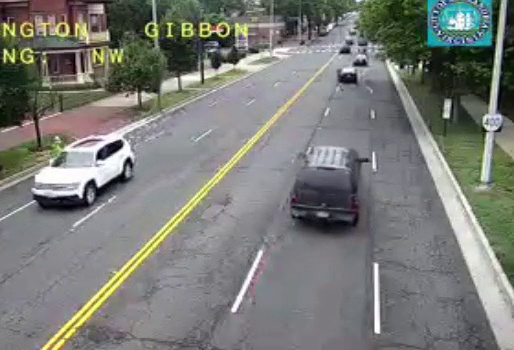car: (290, 146, 360, 223), (336, 68, 357, 84)
